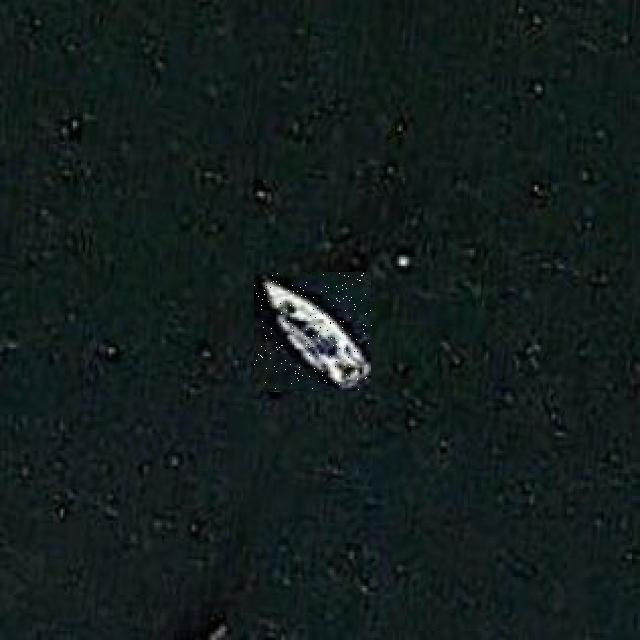boat: (254, 272, 372, 391)
